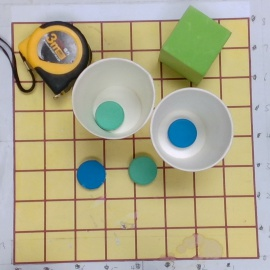blue: (77, 159, 106, 189)
cup_blue: (150, 86, 235, 175)
cup_green: (71, 56, 156, 142)
green: (129, 156, 157, 185)
